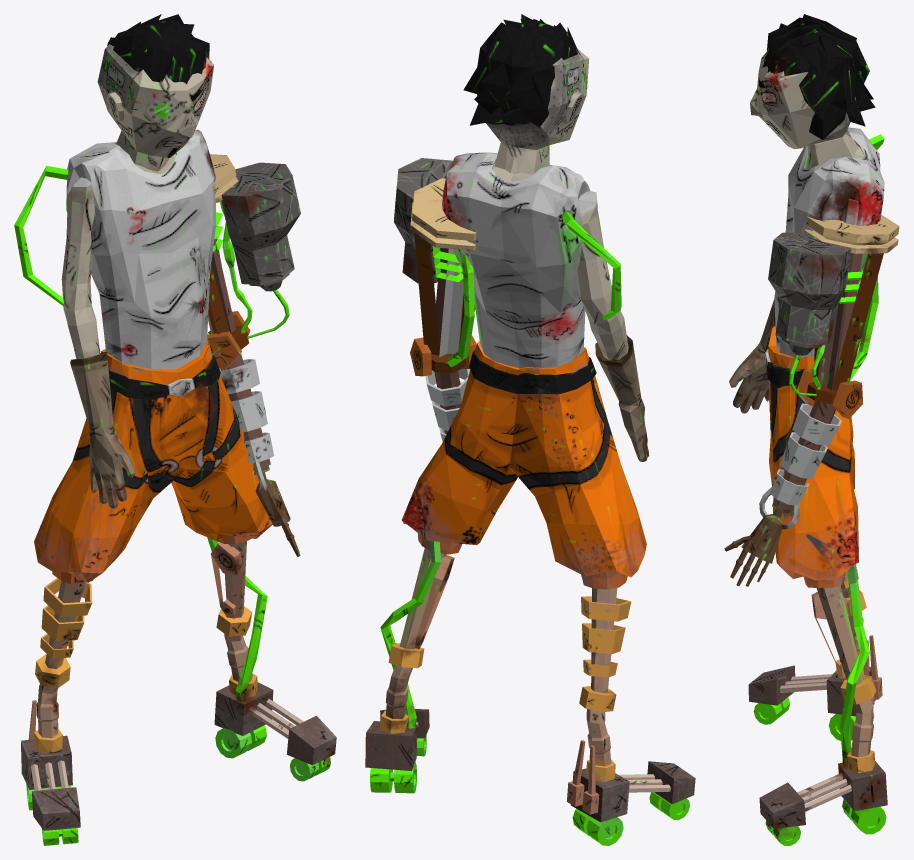
The model's file is CyborgFINALAnimation_000043.obj.
The picture shows the model from 3 angles, left to right: view 1: azimuth 30°, elevation 25°; view 2: azimuth 150°, elevation 25°; view 3: azimuth 270°, elevation 25°; orthographic projection. The views are drawn at different scales.
Visible parts, largest first — view 1: CyborgMesh_Cube.002; view 2: CyborgMesh_Cube.002; view 3: CyborgMesh_Cube.002.
Part boxes in pixels (bbox=[...]): CyborgMesh_Cube.002: bbox=[14, 14, 336, 845]; CyborgMesh_Cube.002: bbox=[365, 14, 695, 845]; CyborgMesh_Cube.002: bbox=[724, 14, 899, 845].
Size of the model in its own units: 3.86 by 9.65 by 2.03.
